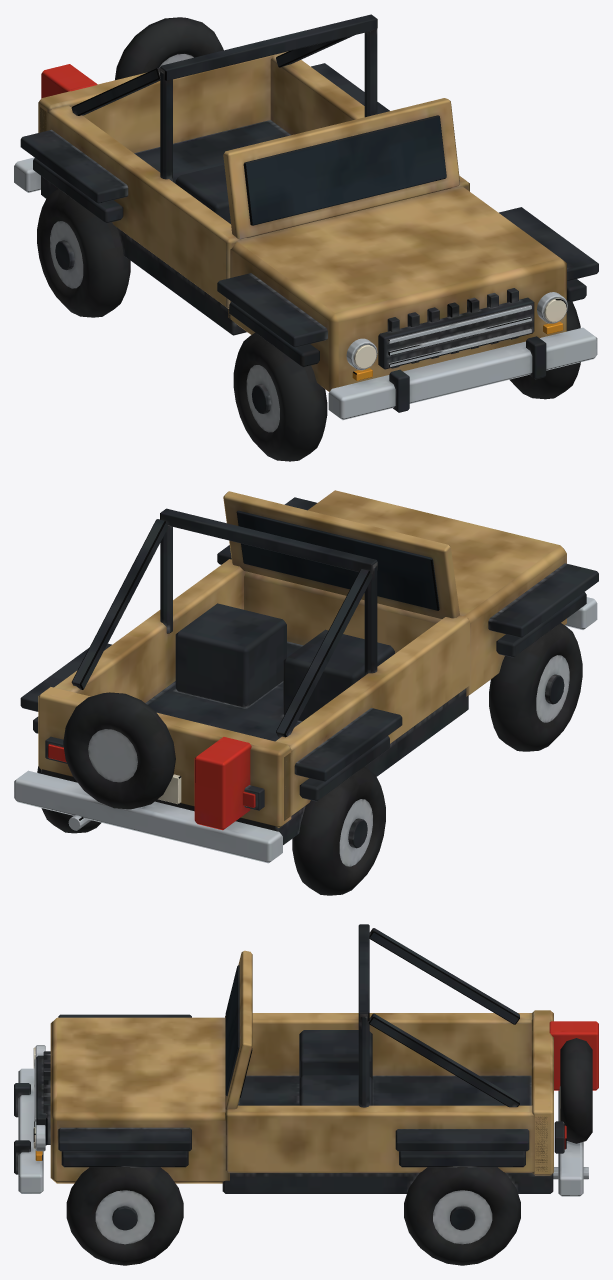
The model's file is car_jeep_offroad.glb.
3 views of the same model, one above another, from view 1: azimuth 30°, elevation 25°; view 2: azimuth 150°, elevation 25°; view 3: azimuth 270°, elevation 25° (orthographic). The views are drawn at different scales.
Parts seen in each view (by area): view 1: CarJeepOffroad; view 2: CarJeepOffroad; view 3: CarJeepOffroad.
Boxes of the visible parts, x1,y1,x2,y2 form: CarJeepOffroad: (14, 14, 598, 461); CarJeepOffroad: (14, 490, 598, 895); CarJeepOffroad: (14, 924, 598, 1265).
Bounding box in the file's own units: 2.16 × 1.9 × 4.16.
Materials: 1 (1 with a texture image).
